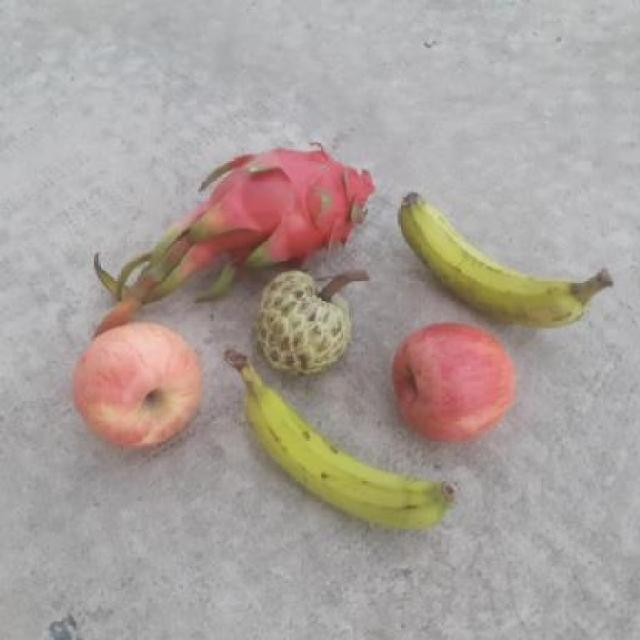apple: (70, 323, 207, 454), (390, 323, 519, 445)
banana: (221, 352, 464, 532), (393, 190, 615, 328)
dragon fruit: (204, 136, 381, 278)
sugar apple: (252, 267, 372, 378)
